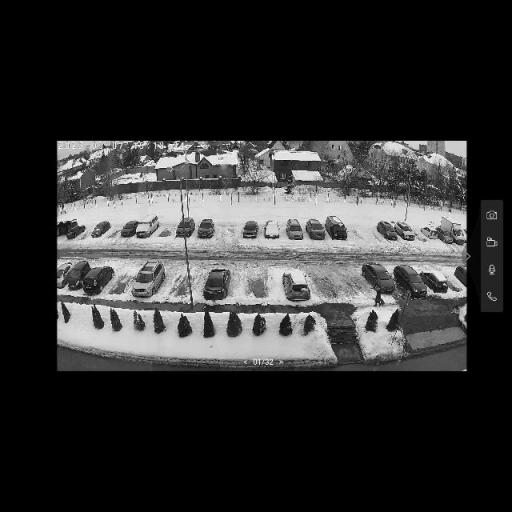busy: (420, 266, 462, 299), (395, 266, 434, 299), (132, 262, 166, 298), (80, 265, 116, 295), (281, 270, 311, 303), (201, 267, 231, 299), (432, 221, 464, 246), (376, 220, 406, 241), (58, 261, 76, 293), (134, 216, 160, 238), (328, 216, 350, 242), (393, 222, 418, 240), (308, 218, 327, 240), (88, 222, 114, 238), (419, 226, 445, 242), (62, 222, 85, 239), (196, 220, 215, 238), (242, 221, 260, 240), (266, 220, 284, 238), (286, 220, 303, 239), (122, 220, 139, 238), (176, 221, 190, 238)
free: (168, 266, 200, 302), (305, 268, 337, 303), (239, 269, 273, 301), (333, 270, 368, 300), (438, 267, 463, 296), (112, 268, 134, 296), (352, 220, 372, 244), (162, 224, 187, 238), (218, 220, 236, 239), (410, 226, 428, 244), (108, 224, 124, 240), (78, 227, 93, 239), (159, 226, 175, 236)
